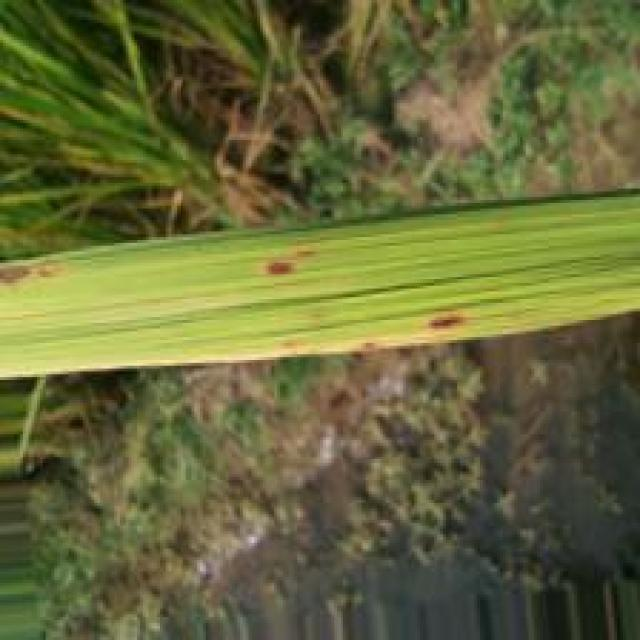Brown_Spot: (422, 306, 475, 338), (254, 258, 305, 280), (2, 260, 41, 288)
